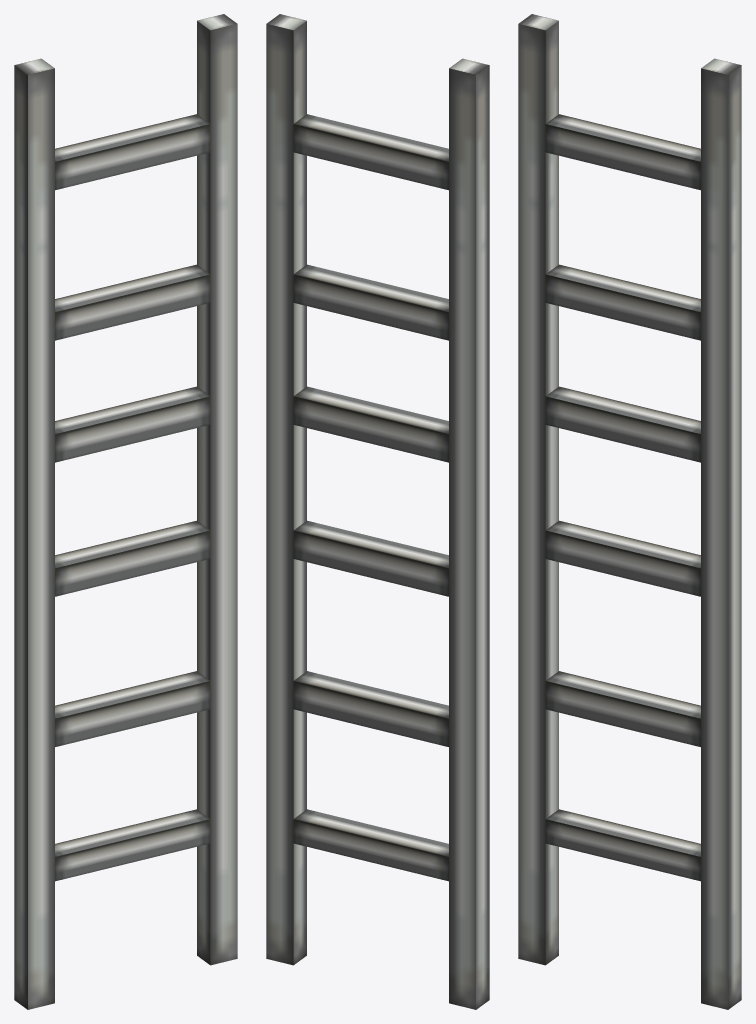
Rendered from Poly_Ladder_01.obj.
3 views of the same model, side by side, from view 1: azimuth 30°, elevation 25°; view 2: azimuth 150°, elevation 25°; view 3: azimuth 330°, elevation 25° (orthographic).
Parts seen in each view (by area): view 1: Cube; view 2: Cube; view 3: Cube.
Boxes of the visible parts, left/top/right/bottom form: Cube: left=14, top=14, right=237, bottom=1009; Cube: left=266, top=14, right=489, bottom=1009; Cube: left=518, top=14, right=741, bottom=1009.
Size of the model in its own units: 0.54 by 2.3 by 0.06.
1 material, 1 textured.
